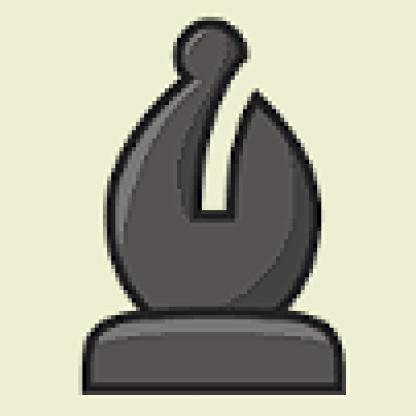Black Bishop: (55, 11, 384, 402)
